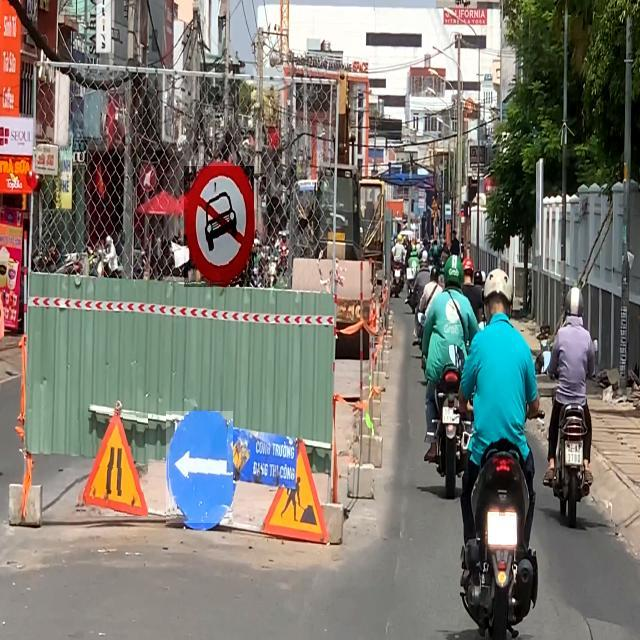P-103a: (184, 166, 254, 287)
R-301c: (166, 412, 233, 524)
W-203b: (75, 408, 148, 516)
